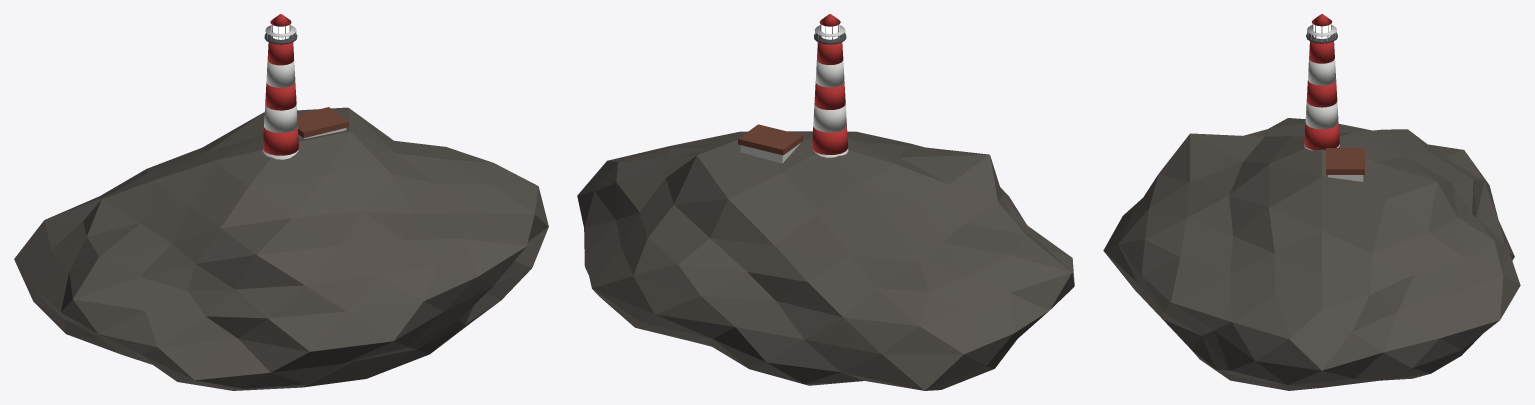
Rendered from escenario_costa.glb.
3 renders of one model, left to right at view 1: azimuth 30°, elevation 25°; view 2: azimuth 150°, elevation 25°; view 3: azimuth 270°, elevation 25°, orthographic. The views are drawn at different scales.
Visible parts, largest first — view 1: faro; view 2: faro; view 3: faro.
Boxes of the visible parts, left/top/right/bottom form: faro: left=14, top=14, right=548, bottom=390; faro: left=577, top=14, right=1074, bottom=390; faro: left=1103, top=14, right=1520, bottom=390.
Bounding box in the file's own units: 90.93 × 62.21 × 70.77.
